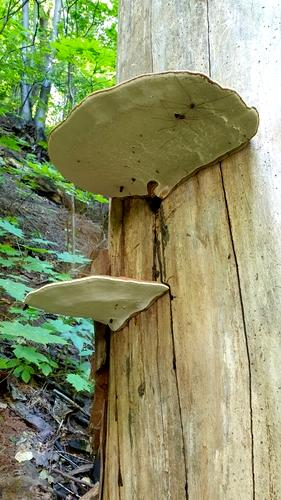Ganoderma - Fruit Body: (41, 65, 262, 216), (21, 274, 179, 331)
